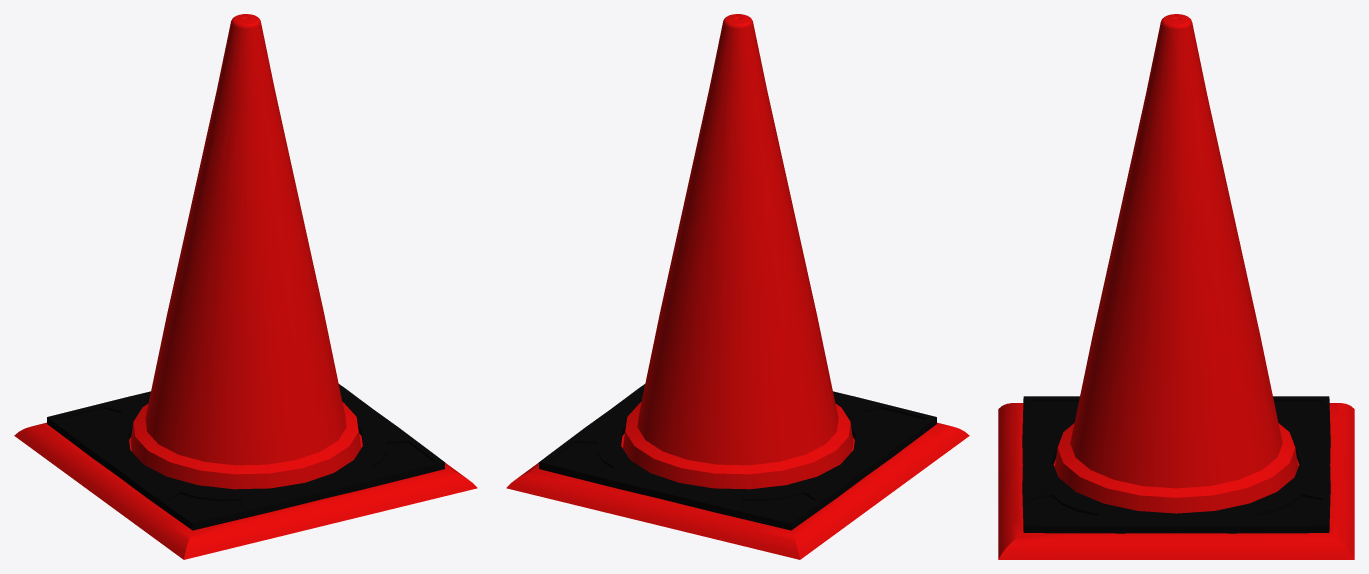
The picture shows the model from 3 angles, left to right: view 1: azimuth 30°, elevation 25°; view 2: azimuth 150°, elevation 25°; view 3: azimuth 270°, elevation 25°; orthographic projection. The views are drawn at different scales.
Visible parts, largest first — view 1: polySurface1, polySurface2; view 2: polySurface1, polySurface2; view 3: polySurface1, polySurface2.
Part boxes in pixels (x1,y1,x2,y2): polySurface1: (14, 14, 477, 559); polySurface2: (47, 384, 444, 530); polySurface1: (506, 14, 969, 559); polySurface2: (539, 384, 936, 530); polySurface1: (998, 14, 1354, 559); polySurface2: (1022, 396, 1330, 533).
Size of the model in its own units: 3.2 by 4.61 by 3.2.
